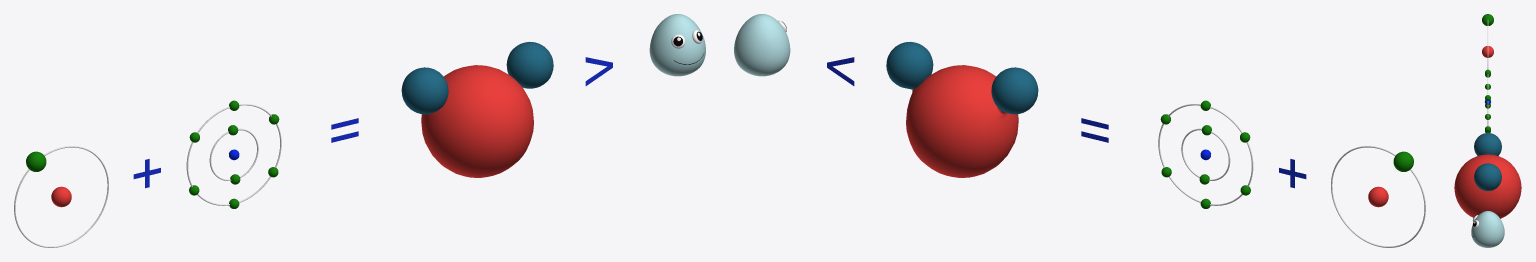
Rendered from elements.fbx.
The picture shows the model from 3 angles, left to right: view 1: azimuth 30°, elevation 25°; view 2: azimuth 150°, elevation 25°; view 3: azimuth 270°, elevation 25°; orthographic projection. The views are drawn at different scales.
Parts seen in each view (by area): view 1: Roundcube.002, Roundcube.004, BezierCircle.011, BezierCircle.004; view 2: Roundcube.002, Roundcube.004, BezierCircle.011, BezierCircle.004; view 3: Roundcube.002, Roundcube.004, Roundcube.001, Roundcube.013, BezierCircle.004, BezierCircle.011, Roundcube.005, Roundcube.014, Roundcube.016, Roundcube.018.
Part boxes in pixels (x1,y1,x2,y2): Roundcube.002: [401, 41, 553, 177]; Roundcube.004: [649, 14, 705, 76]; BezierCircle.011: [14, 146, 108, 247]; BezierCircle.004: [186, 104, 281, 205]; Roundcube.002: [886, 41, 1038, 177]; Roundcube.004: [734, 14, 790, 76]; BezierCircle.011: [1331, 146, 1425, 247]; BezierCircle.004: [1158, 104, 1253, 205]; Roundcube.002: [1454, 133, 1521, 218]; Roundcube.004: [1471, 211, 1504, 247]; Roundcube.001: [1482, 46, 1493, 57]; Roundcube.013: [1482, 14, 1493, 25]; BezierCircle.004: [1487, 74, 1488, 132]; BezierCircle.011: [1487, 20, 1488, 68]; Roundcube.005: [1472, 215, 1478, 228]; Roundcube.014: [1485, 84, 1490, 119]; Roundcube.016: [1485, 95, 1490, 108]; Roundcube.018: [1485, 74, 1490, 132].
Size of the model in its own units: 524 by 95.54 by 74.77.
